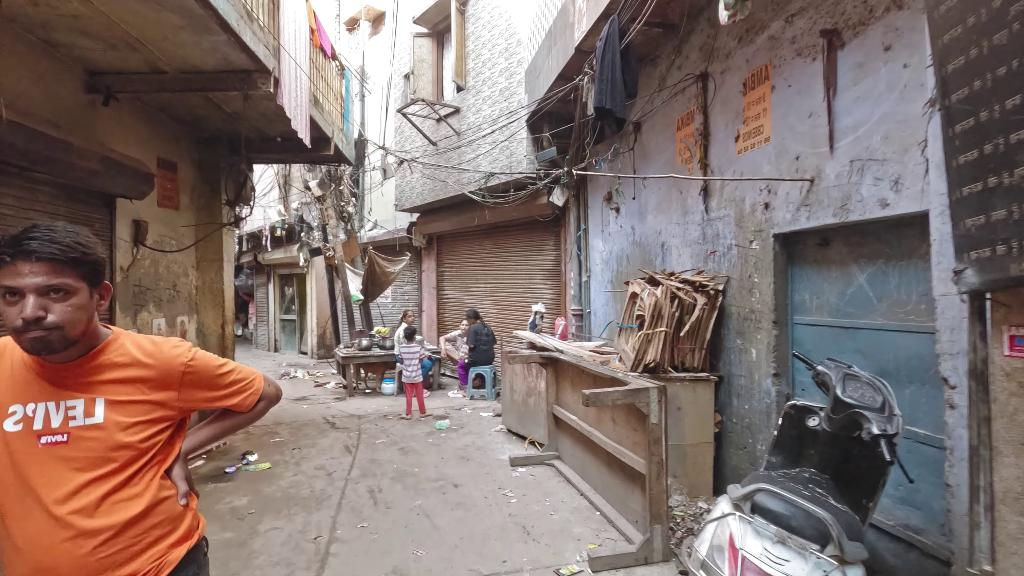garbage: (241, 461, 272, 472), (241, 450, 258, 463), (433, 418, 451, 430), (223, 464, 244, 474)
